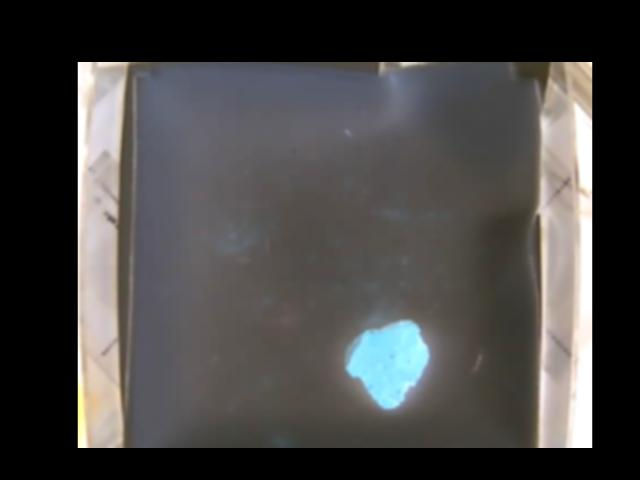Brisk: (344, 317, 427, 408)
